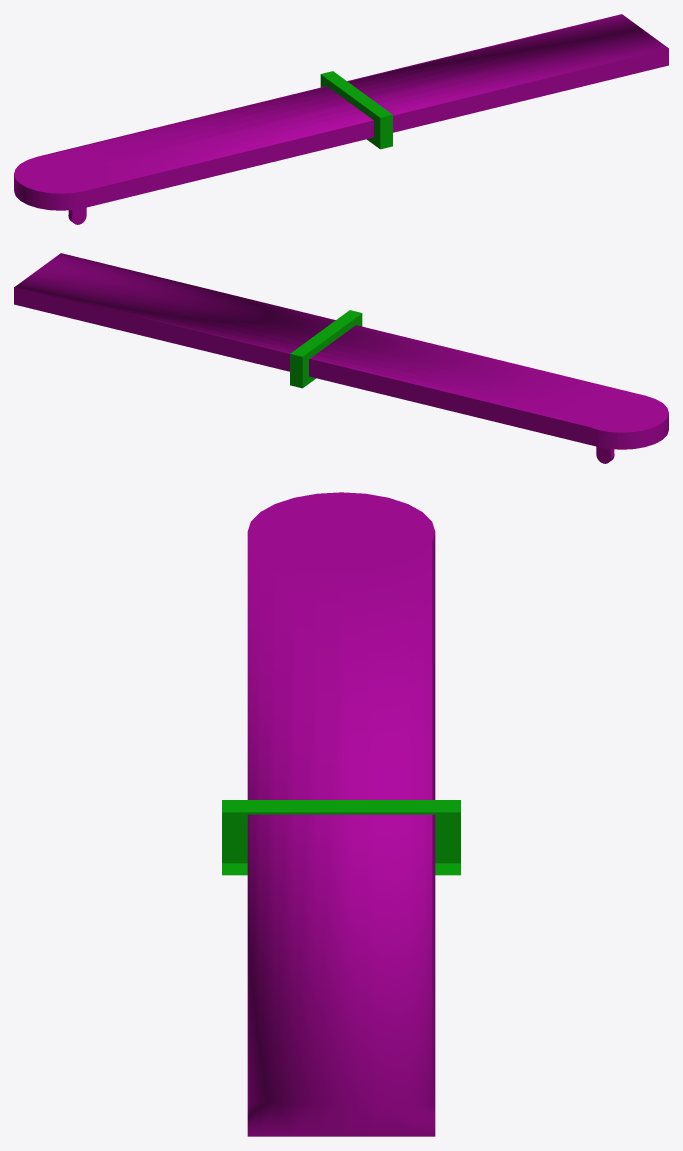
The model's file is SupportWholeRobot_v1.2.fbx.
3 views of the same model, one above another, from view 1: azimuth 30°, elevation 25°; view 2: azimuth 150°, elevation 25°; view 3: azimuth 270°, elevation 25° (orthographic). The views are drawn at different scales.
Visible parts, largest first — view 1: pCylinder11, pCube1; view 2: pCylinder11, pCube1; view 3: pCylinder11, pCube1.
Part boxes in pixels (box(x1,y1,x2,y2)): pCylinder11: box(14, 14, 668, 224); pCube1: box(320, 71, 392, 149); pCylinder11: box(14, 253, 668, 463); pCube1: box(290, 310, 362, 388); pCylinder11: box(247, 492, 435, 1136); pCube1: box(222, 800, 460, 875).
Size of the model in its own units: 384 by 26.2 by 63.65.
